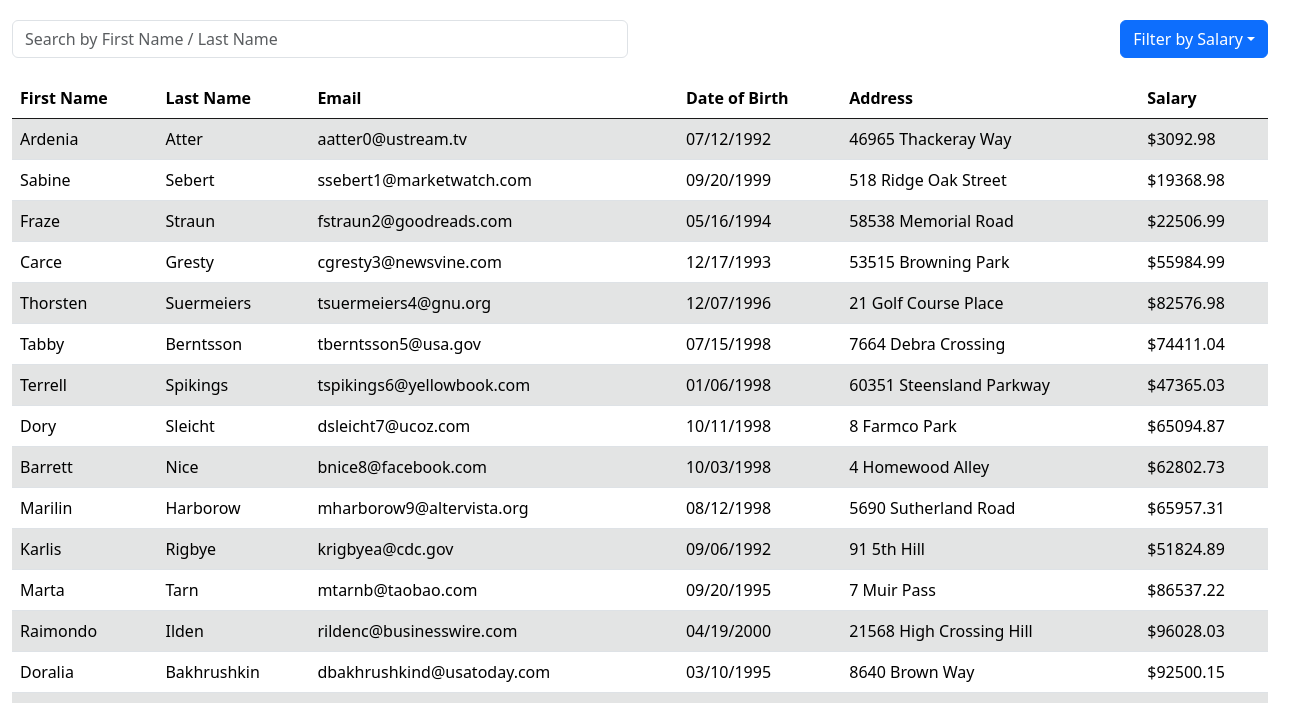
Test: EmployeeTable › filters employees by salary when a salary option is selected  25k - 50k
Step 1. Click the button "Filter by Salary" → {"x": 1194, "y": 39}, box 1120,20 -> 1268,58
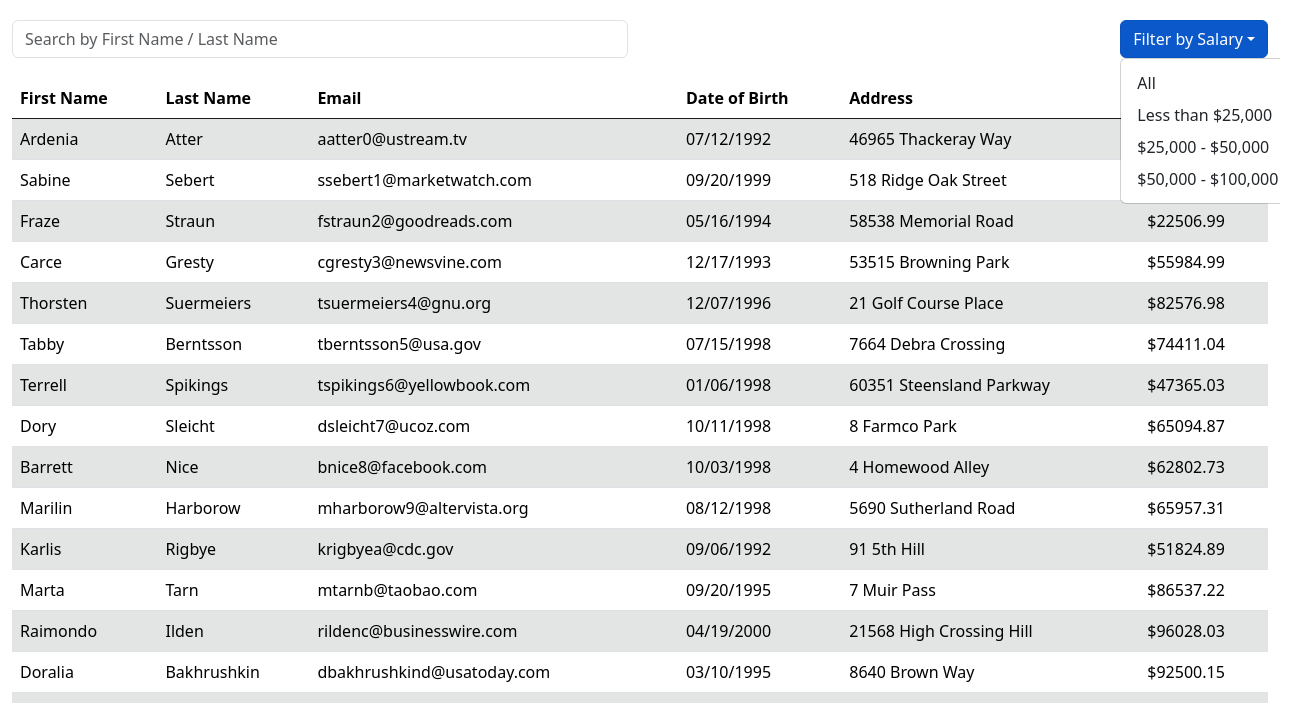
Step 2. Click the button "$25,000 - $50,000" → {"x": 1203, "y": 147}, box 1137,136 -> 1269,158
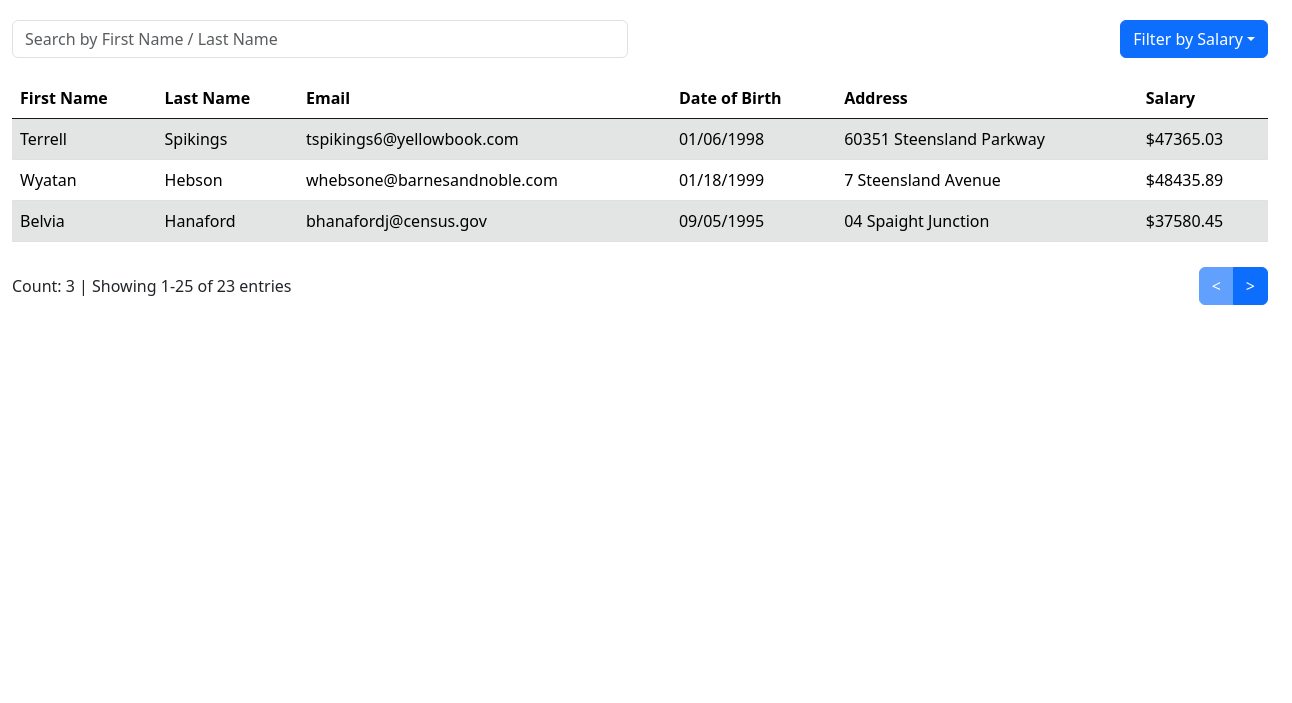
Expected: the number of rows with test id "employee-info-row" is 3, 12,118 -> 1268,160; 12,160 -> 1268,200; 12,200 -> 1268,242
